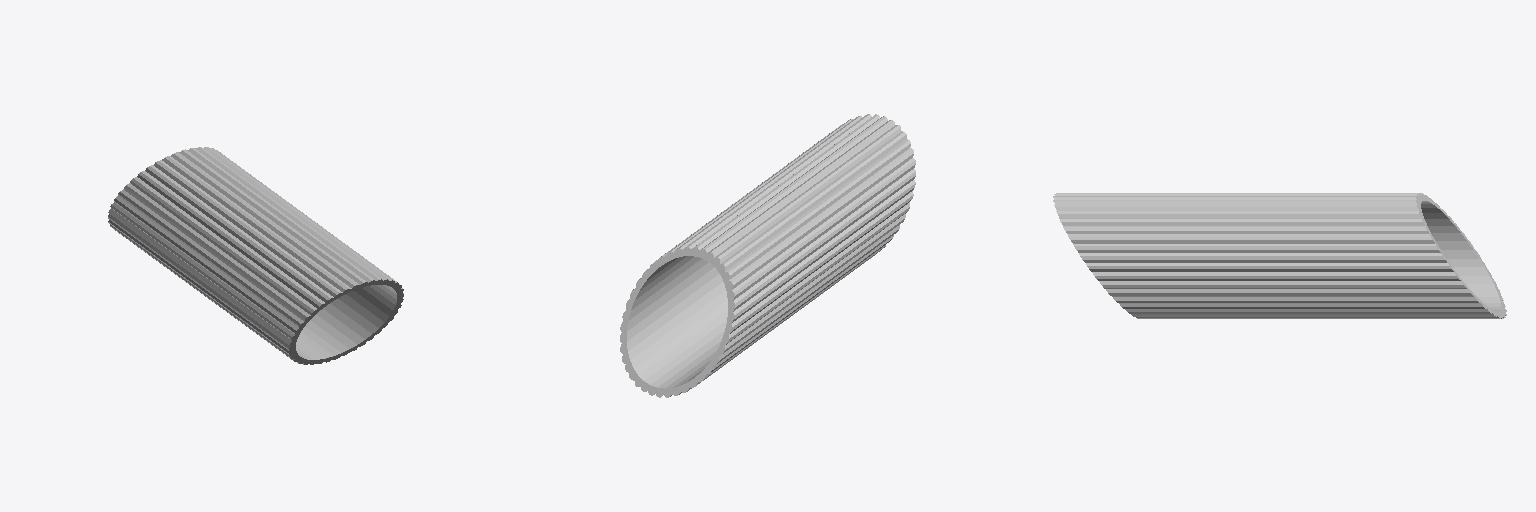
File: Pasta.obj
3 renders of one model, left to right at view 1: azimuth 30°, elevation 25°; view 2: azimuth 150°, elevation 25°; view 3: azimuth 270°, elevation 25°, orthographic.
Bounding box in the file's own units: 0.3502 × 0.3633 × 1.3.